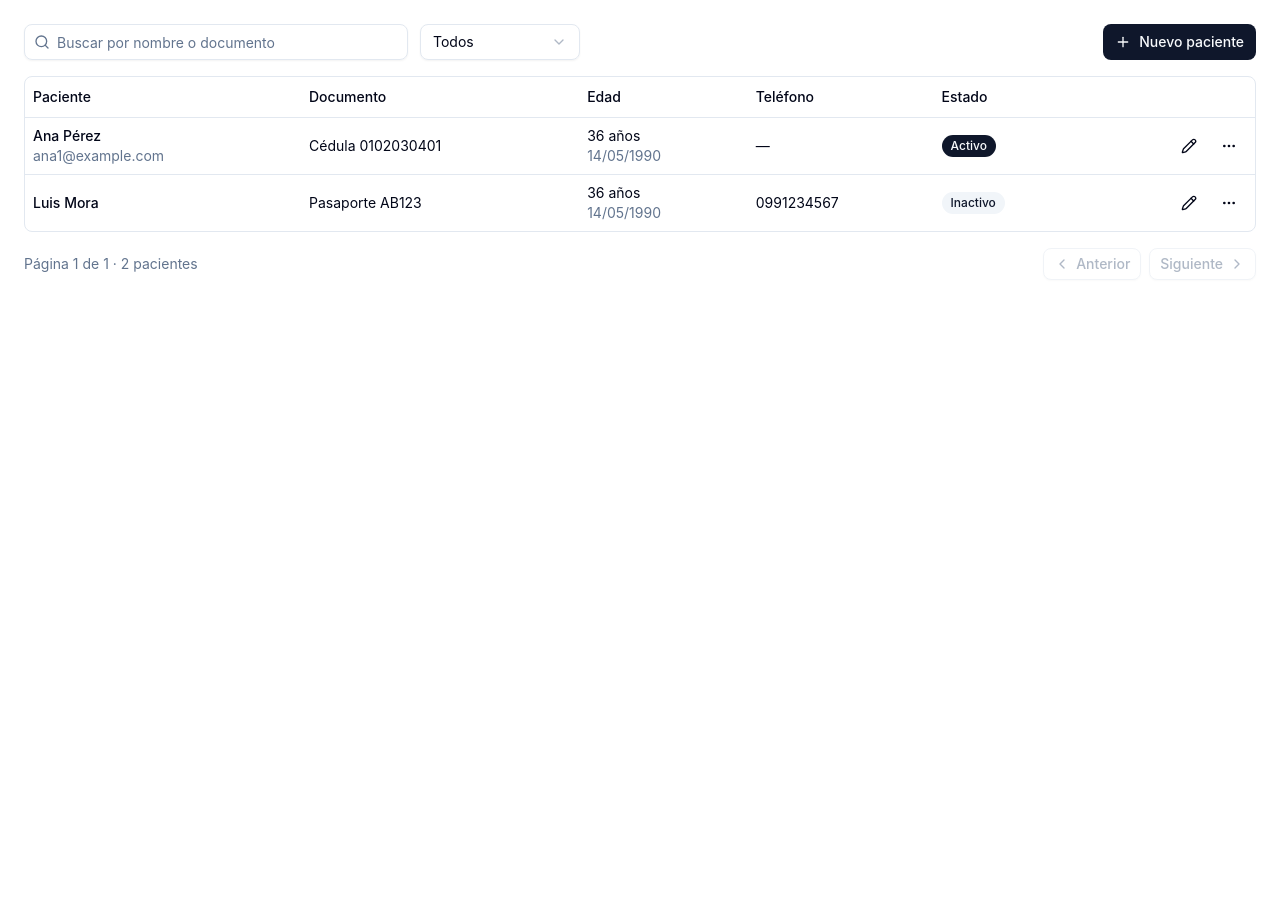
Test: PatientsPage › closes the edition and refreshes when the patient no longer exists
Expected: the text "Ana Pérez" is shown, [33, 126, 101, 144]
Click the button named "Editar a Ana Pérez": (1189, 146) [1171, 128, 1207, 164]
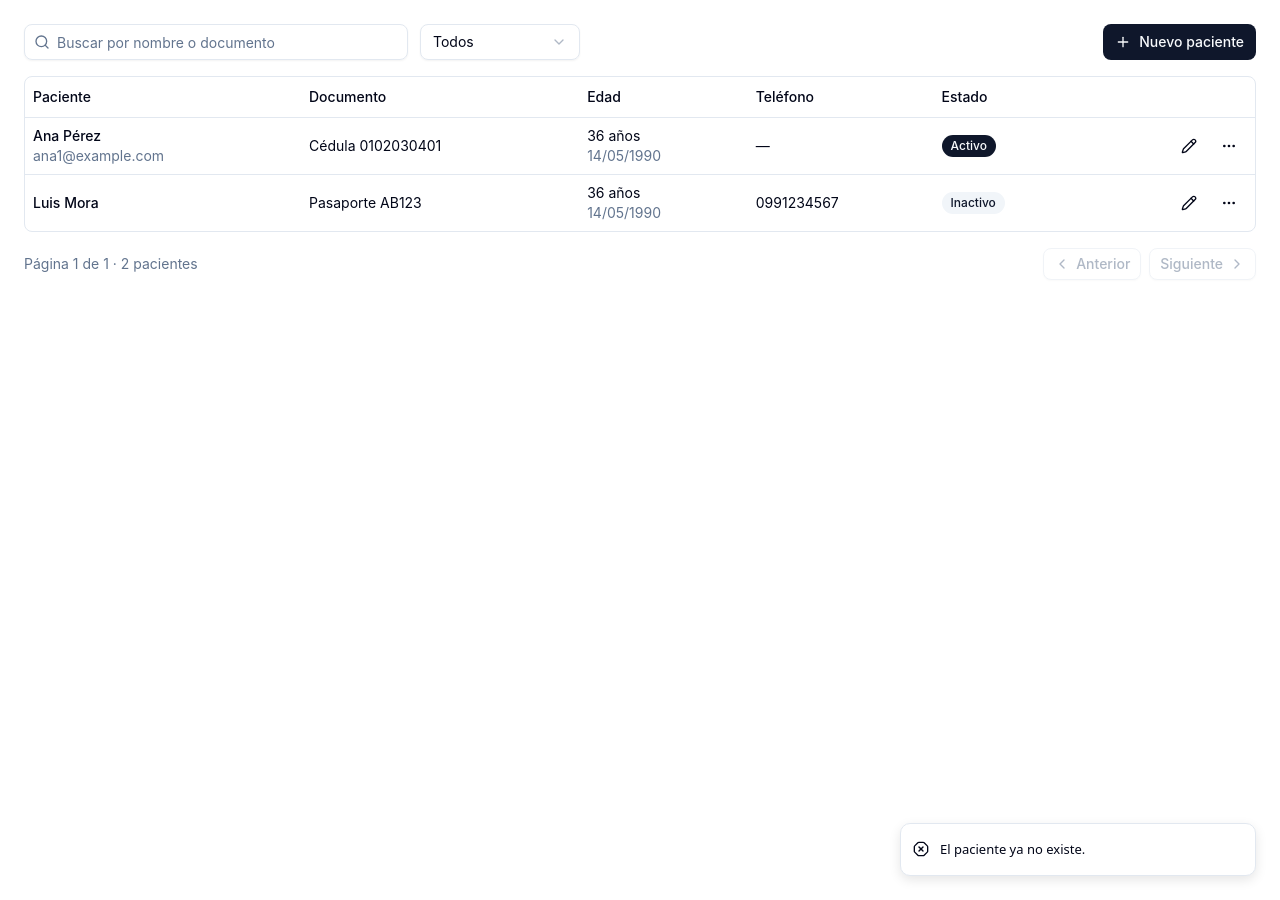
Now the text "El paciente ya no existe." is shown, box [940, 840, 1085, 859]
